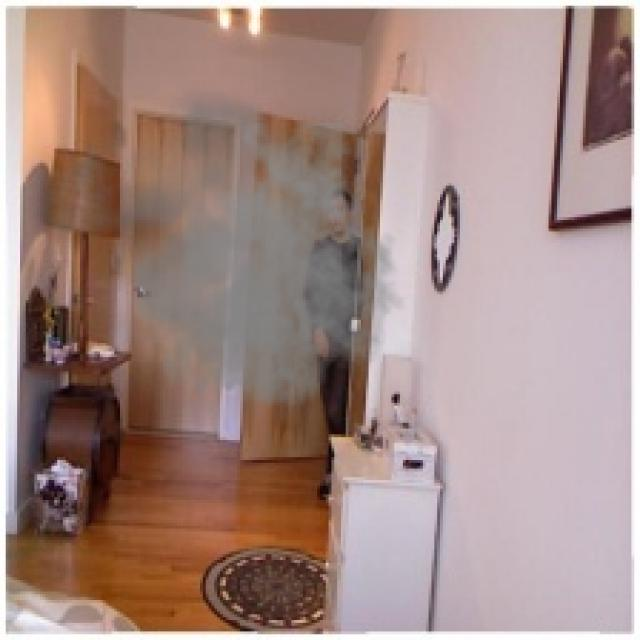smoke: (34, 80, 406, 431)
